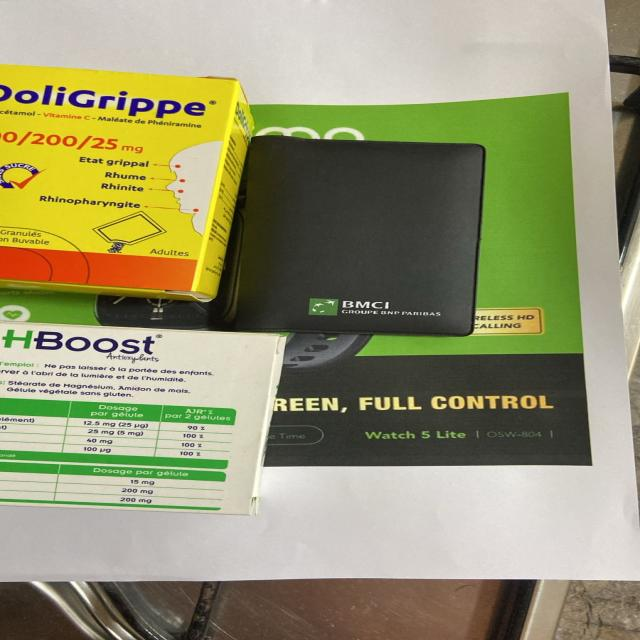Watch 5 Lite OSW-804: (362, 429, 560, 442)
